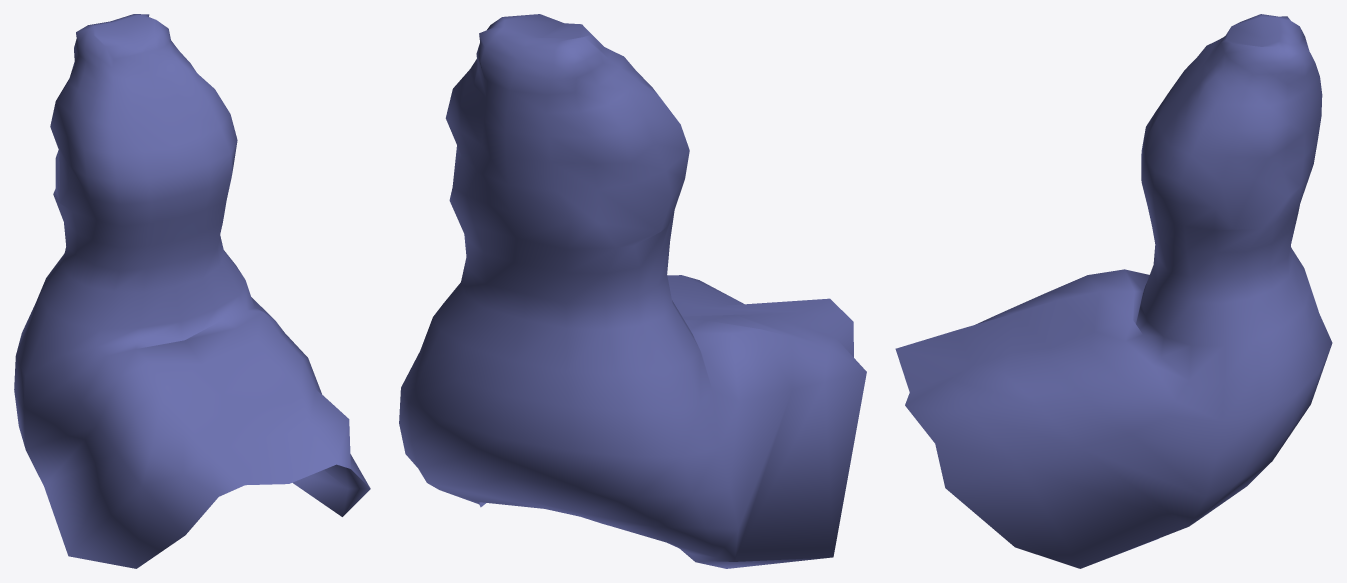
Rendered from dress_Sitting.fbx.
3 renders of one model, left to right at view 1: azimuth 30°, elevation 25°; view 2: azimuth 150°, elevation 25°; view 3: azimuth 270°, elevation 25°, orthographic. The views are drawn at different scales.
Parts seen in each view (by area): view 1: Dress_Sitting; view 2: Dress_Sitting; view 3: Dress_Sitting.
Part boxes in pixels (x1=…): Dress_Sitting: x1=14, y1=14, x2=370, y2=568; Dress_Sitting: x1=399, y1=14, x2=866, y2=568; Dress_Sitting: x1=895, y1=14, x2=1332, y2=568.
Size of the model in its own units: 52.94 by 78.8 by 66.92.
